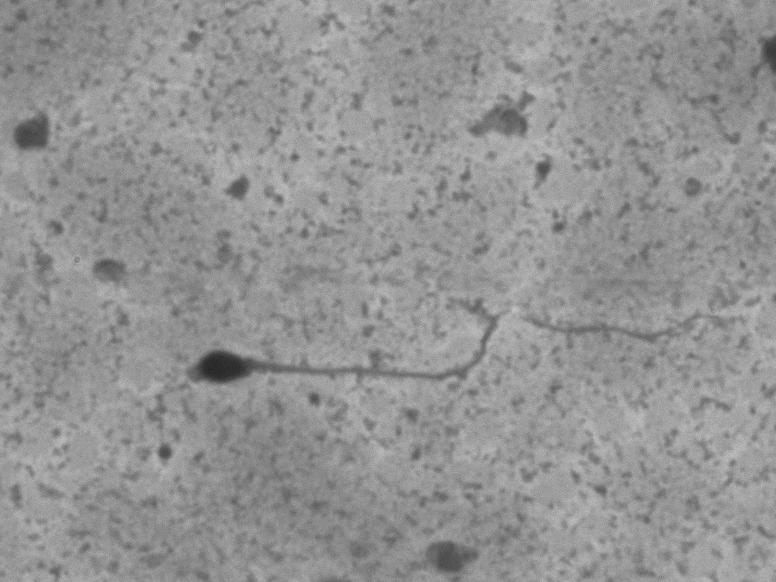Abnormal: (125, 281, 739, 424)
